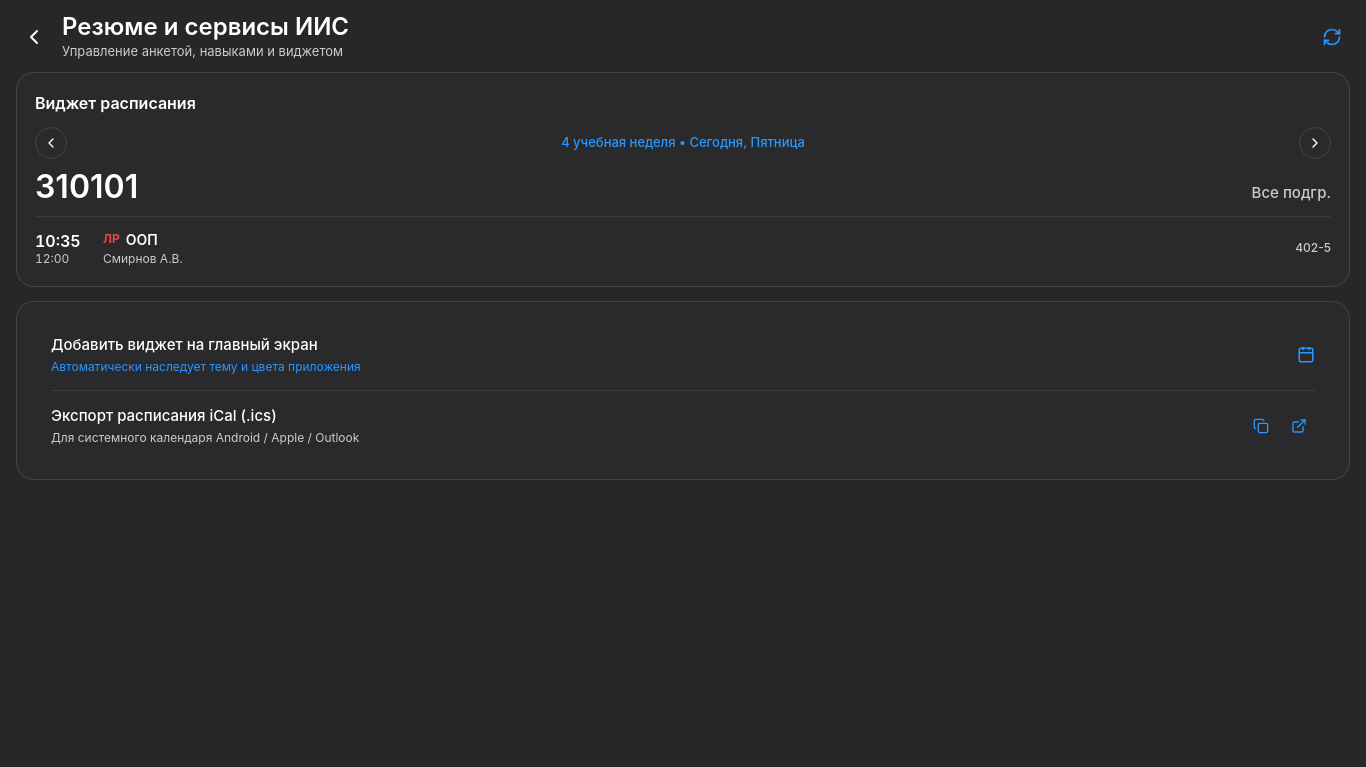
Test: M4 Screens Suite › IisResumeScreen supports widget day preview, CV switches, skills & links add/delete, and Outlook copy
Later steps or results of the test are not shown.
Expected: the text "Виджет расписания" is shown, [35,90,196,114]
Expected: the button "4 учебная неделя • Сегодня, Пятница" is shown, [75,133,1291,152]
Click the button named "Следующий день виджета".
click(1315, 142)  # box [1299,126,1331,158]
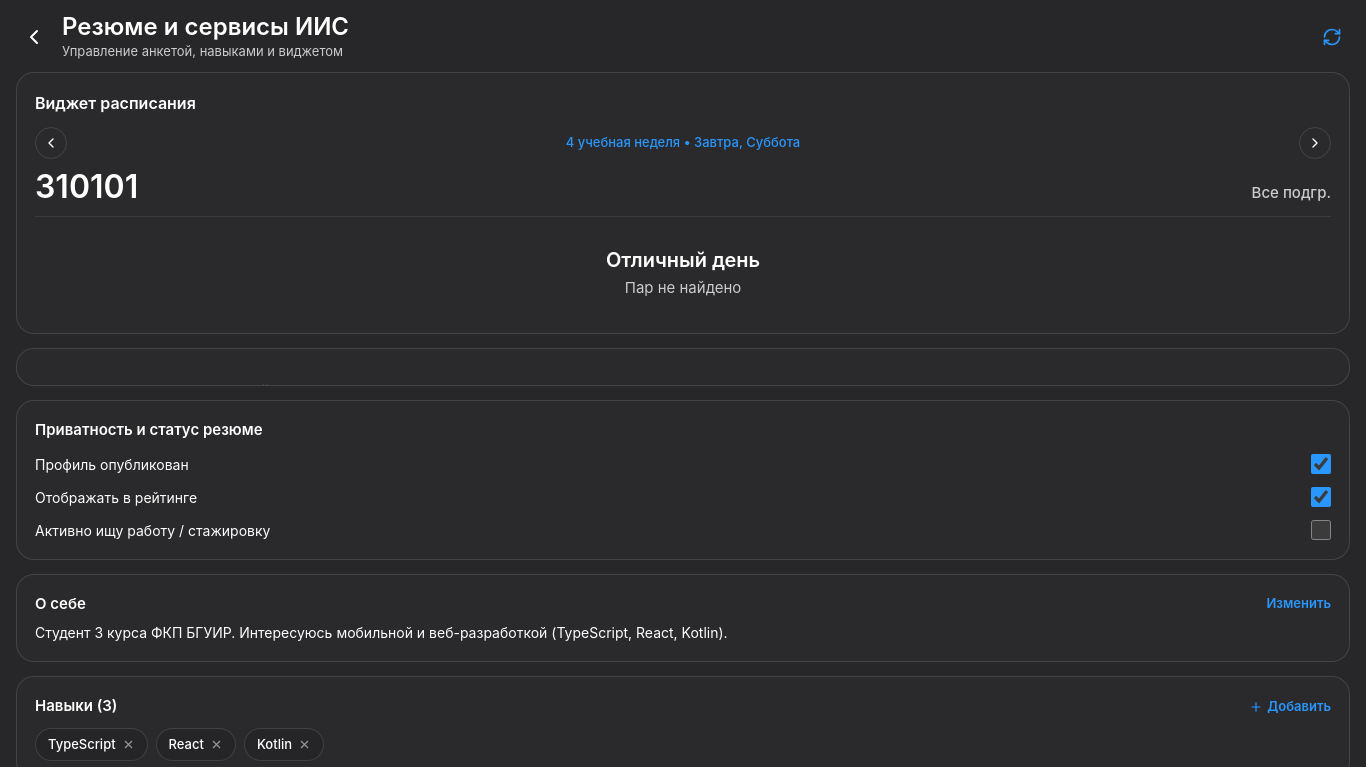
Expected: the button "4 учебная неделя • Завтра, Суббота" is shown, [75,133,1291,152]
Click the button named "Предыдущий день виджета".
click(51, 142)  # box [35,126,67,158]
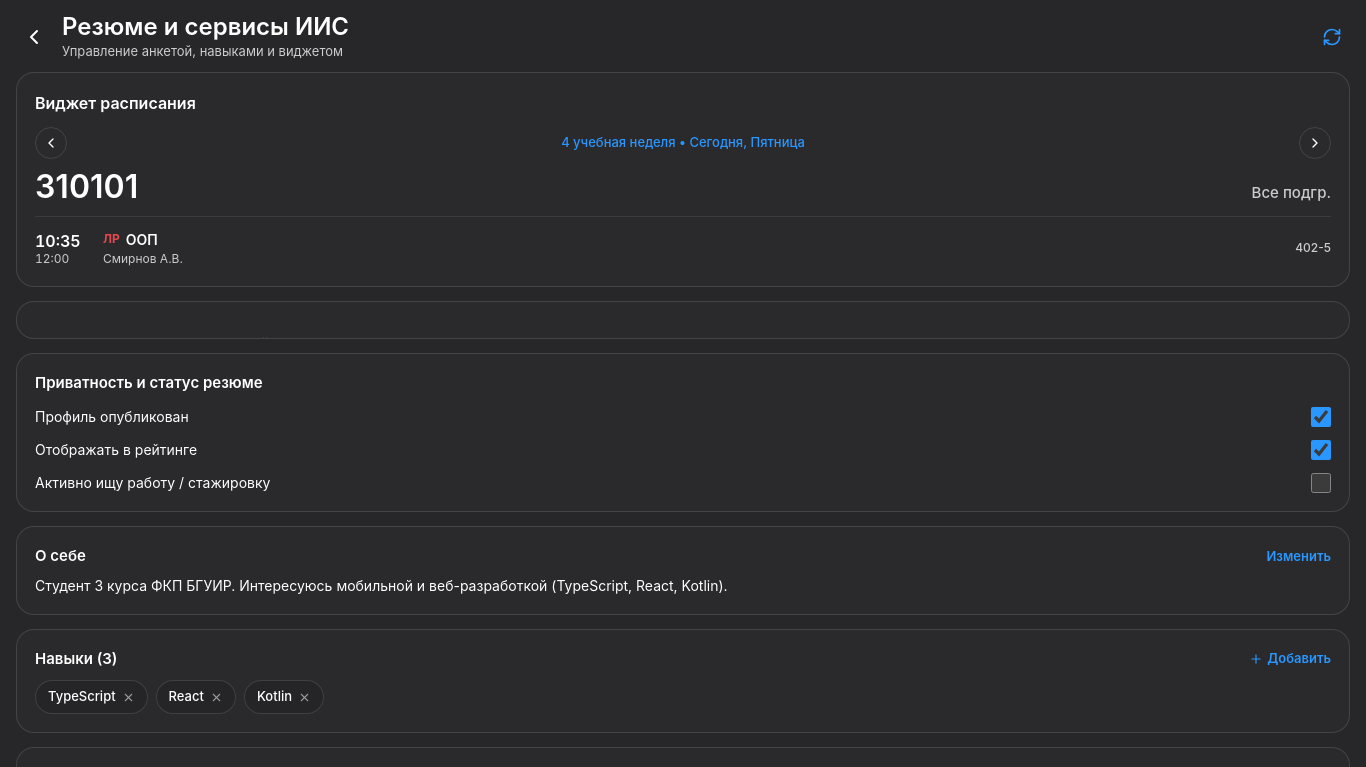
Expected: the button "4 учебная неделя • Сегодня, Пятница" is shown, [75,133,1291,152]
